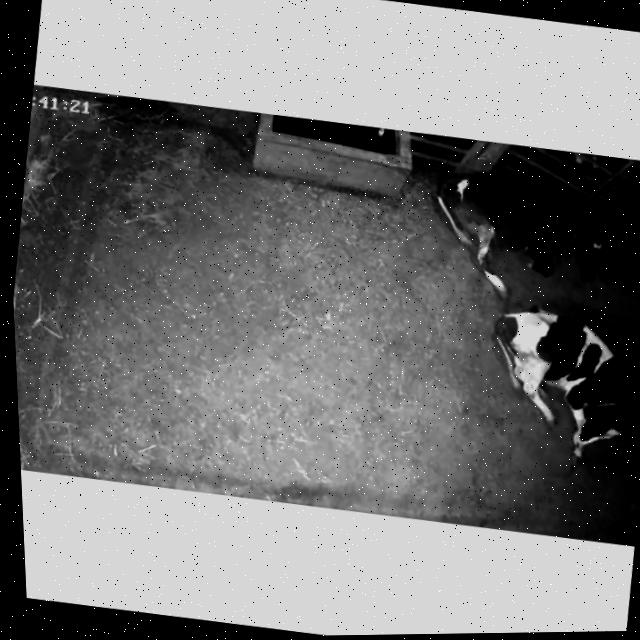lay: (422, 153, 640, 315), (461, 296, 640, 465)
